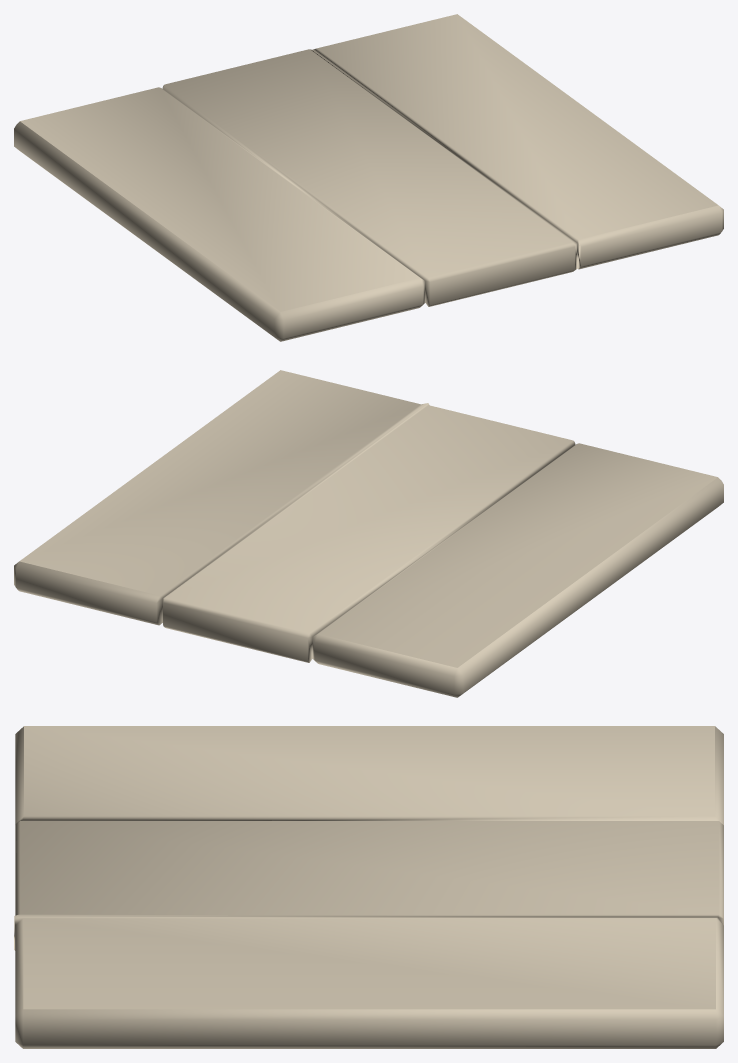
The model's file is Sign.fbx.
The picture shows the model from 3 angles, top to bottom: view 1: azimuth 30°, elevation 25°; view 2: azimuth 150°, elevation 25°; view 3: azimuth 270°, elevation 25°; orthographic projection. The views are drawn at different scales.
Visible parts, largest first — view 1: counter.002; view 2: counter.002; view 3: counter.002.
Boxes of the visible parts, x1=… form: counter.002: x1=14, y1=14, x2=723, y2=341; counter.002: x1=14, y1=370, x2=723, y2=697; counter.002: x1=14, y1=726, x2=723, y2=1048.
Bounding box in the file's own units: 196 × 12.44 × 202.
